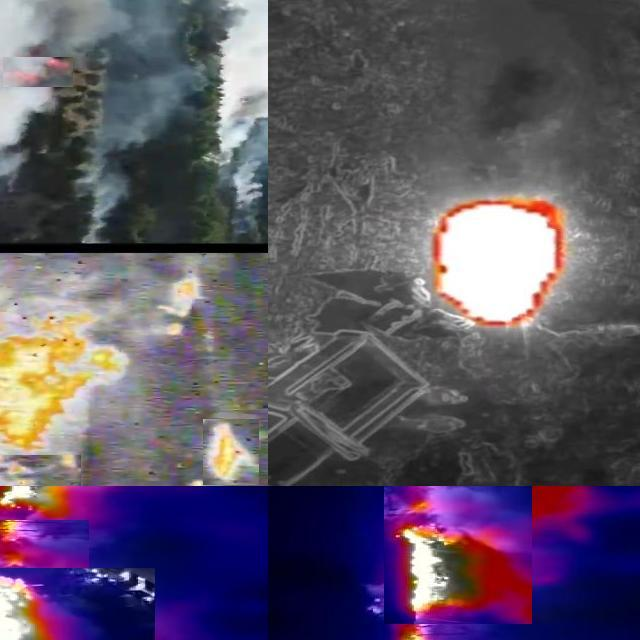fire: (385, 487, 533, 624), (428, 195, 574, 327), (1, 310, 130, 456), (1, 568, 156, 640), (1, 520, 89, 568), (1, 487, 132, 517), (159, 270, 208, 345), (204, 420, 260, 485), (4, 57, 74, 87)
